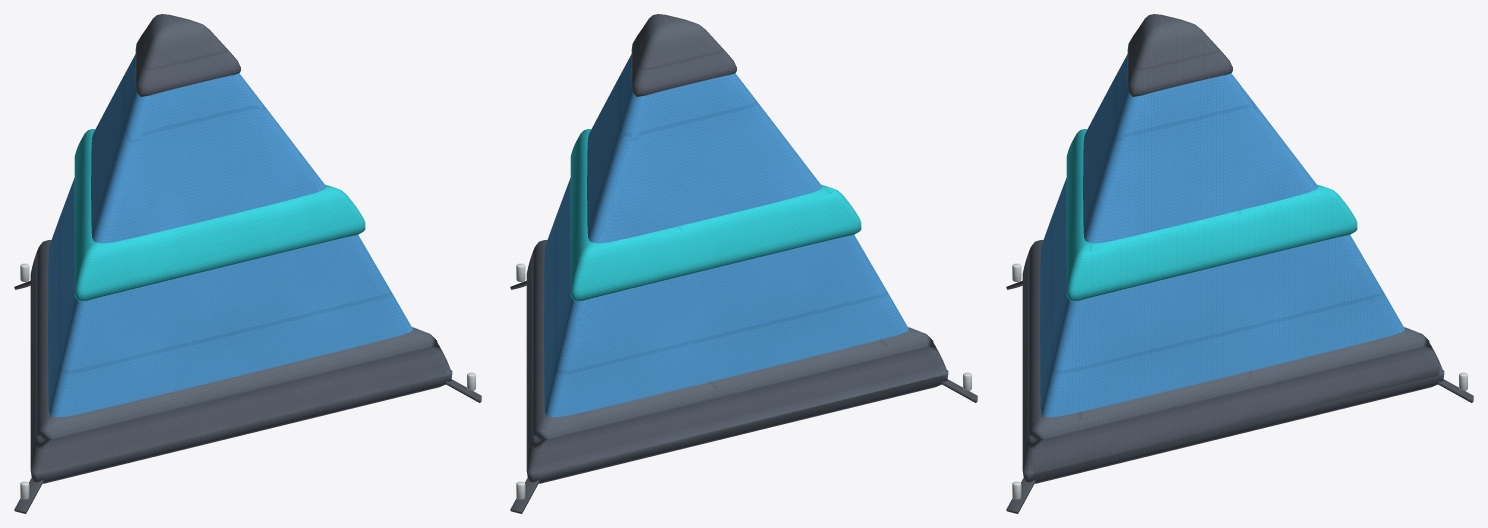
Rendered from bunker_dorito_blue.glb.
3 views of the same model, side by side, from view 1: azimuth 30°, elevation 25°; view 2: azimuth 150°, elevation 25°; view 3: azimuth 270°, elevation 25° (orthographic).
Parts seen in each view (by area): view 1: DoritoBody, DoritoBaseSkirt, DoritoStripeBand, DoritoTopCap; view 2: DoritoBody, DoritoBaseSkirt, DoritoStripeBand, DoritoTopCap; view 3: DoritoBody, DoritoBaseSkirt, DoritoStripeBand, DoritoTopCap.
Boxes of the visible parts, left/top/right/bottom form: DoritoBody: left=48, top=54, right=412, bottom=417; DoritoBaseSkirt: left=30, top=240, right=452, bottom=483; DoritoStripeBand: left=74, top=129, right=365, bottom=301; DoritoTopCap: left=135, top=14, right=240, bottom=96; DoritoBody: left=544, top=54, right=908, bottom=417; DoritoBaseSkirt: left=526, top=240, right=948, bottom=483; DoritoStripeBand: left=570, top=129, right=861, bottom=301; DoritoTopCap: left=631, top=14, right=736, bottom=96; DoritoBody: left=1040, top=54, right=1404, bottom=417; DoritoBaseSkirt: left=1022, top=240, right=1444, bottom=483; DoritoStripeBand: left=1066, top=129, right=1357, bottom=301; DoritoTopCap: left=1127, top=14, right=1232, bottom=96.
Size of the model in its own units: 2.83 by 2.2 by 2.45.
5 materials, 3 textured.
